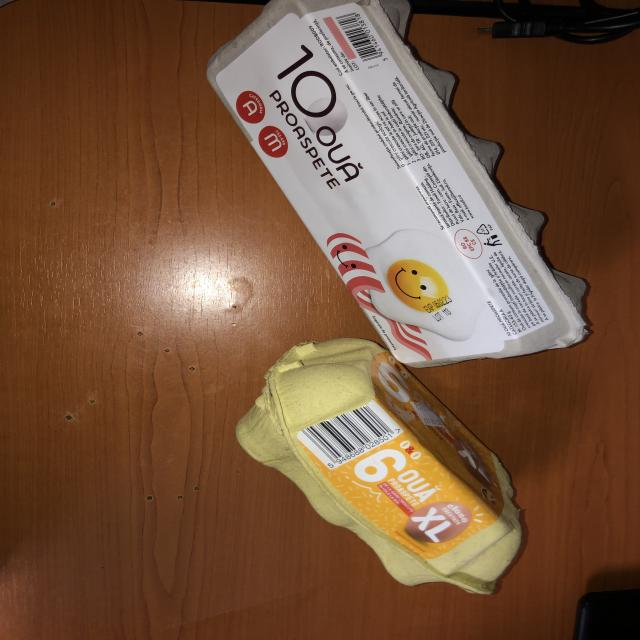eggs: (205, 0, 591, 366), (234, 339, 526, 597)
